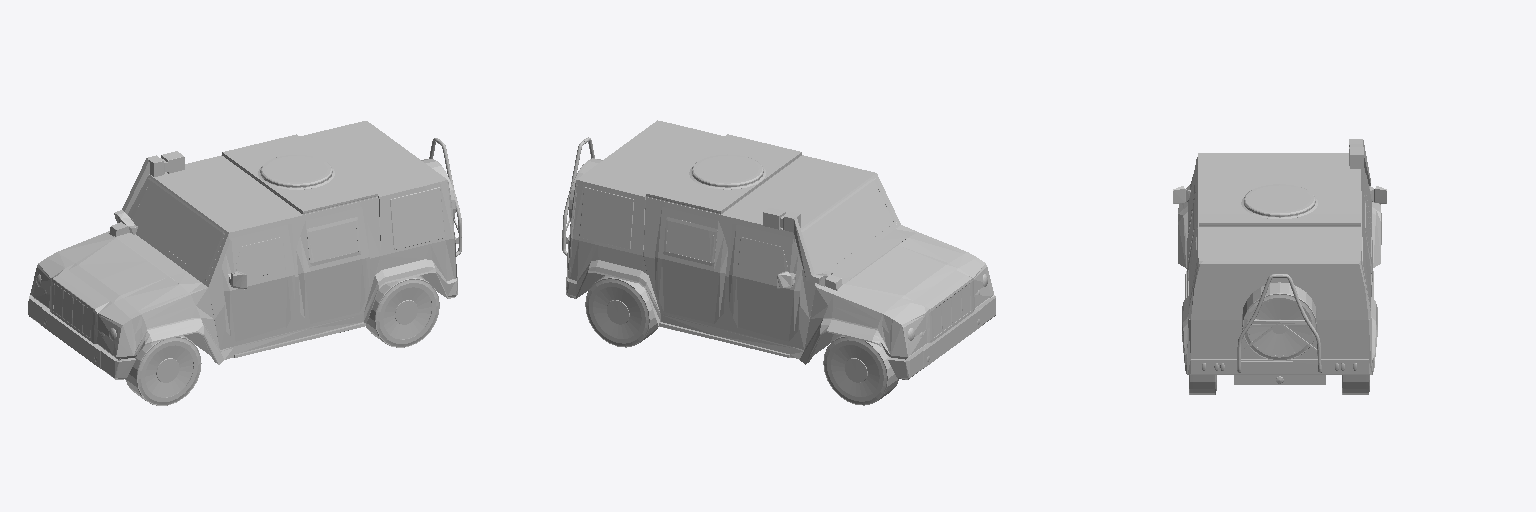
The model's file is Final Humvee.obj.
3 views of the same model, side by side, from view 1: azimuth 30°, elevation 25°; view 2: azimuth 150°, elevation 25°; view 3: azimuth 270°, elevation 25° (orthographic).
Visible parts, largest first — view 1: Humvee, polySurface1, polySurface4, polySurface10, polySurface5, Lid LidSmoothProxyGroup, loftedSurface11, loftedSurface2 polySurface19, loftedSurface2 polySurface20, loftedSurface10, Snorkel, polySurface6 (+4 smaller); view 2: Humvee, polySurface2, polySurface3, polySurface10, polySurface5, Lid LidSmoothProxyGroup, loftedSurface2 polySurface17, loftedSurface2 polySurface18, loftedSurface8, loftedSurface9, polySurface7, Snorkel (+4 smaller); view 3: Humvee, polySurface16 loftedSurface2, Lid LidSmoothProxyGroup, loftedSurface3, pCylinder1, Snorkel, loftedSurface8, loftedSurface11.
Part boxes in pixels (x1,y1,x2,y2): Humvee: (28,121,457,379); polySurface1: (222,224,294,341); polySurface4: (296,206,369,323); polySurface10: (132,181,221,277); polySurface5: (390,187,444,249); Lid LidSmoothProxyGroup: (258,155,334,189); loftedSurface11: (366,276,439,347); loftedSurface2 polySurface19: (145,345,193,397); loftedSurface2 polySurface20: (383,287,431,339); loftedSurface10: (125,336,201,405); Snorkel: (109,151,184,236); polySurface6: (236,237,285,278); Humvee: (566,120,995,379); polySurface2: (729,224,802,341); polySurface3: (655,206,727,323); polySurface10: (802,181,893,273); polySurface5: (579,187,633,249); Lid LidSmoothProxyGroup: (689,154,765,189); loftedSurface2 polySurface17: (593,287,641,338); loftedSurface2 polySurface18: (831,345,879,396); loftedSurface8: (585,276,658,347); loftedSurface9: (823,335,898,405); polySurface7: (738,237,787,279); Snorkel: (763,208,842,290); Humvee: (1178,153,1381,384); polySurface16 loftedSurface2: (1249,299,1310,355); Lid LidSmoothProxyGroup: (1241,184,1317,218); loftedSurface3: (1242,282,1316,360); pCylinder1: (1237,274,1321,372); Snorkel: (1349,139,1370,185); loftedSurface8: (1342,375,1369,394); loftedSurface11: (1189,375,1216,394).
Size of the model in its own units: 24.45 by 10.59 by 12.2.